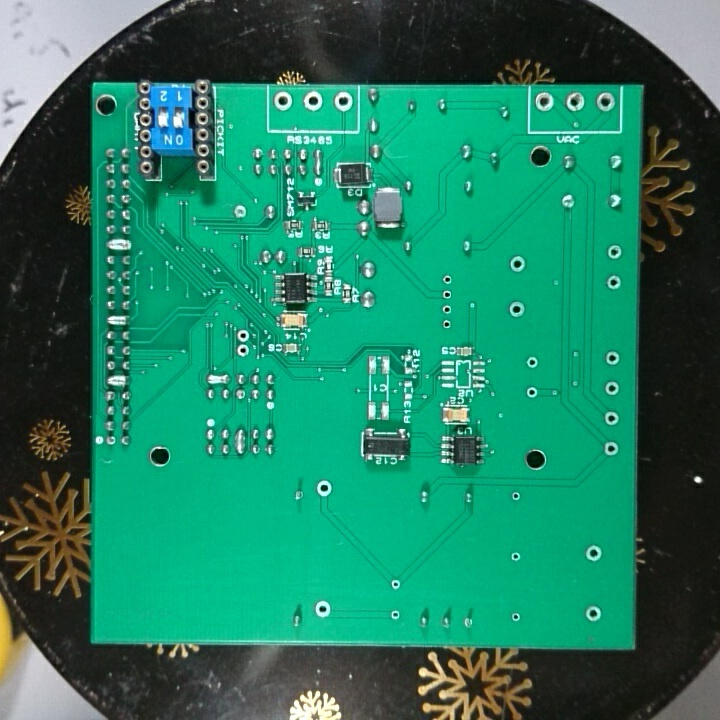F: (271, 89, 296, 115), (532, 91, 557, 115), (564, 90, 588, 114), (330, 89, 353, 114), (582, 541, 604, 567), (604, 239, 627, 263), (310, 597, 334, 620), (595, 89, 616, 115), (584, 600, 605, 626), (313, 477, 336, 500), (559, 191, 580, 215), (601, 438, 623, 460), (507, 253, 529, 274), (602, 347, 623, 369), (604, 271, 624, 294), (301, 90, 322, 111), (228, 201, 248, 223), (601, 407, 621, 429), (507, 299, 528, 317), (233, 327, 255, 343), (233, 342, 252, 360), (387, 573, 404, 593), (604, 378, 620, 399), (507, 549, 527, 565), (103, 432, 119, 452), (461, 612, 476, 633), (524, 354, 541, 372), (233, 385, 250, 403), (291, 486, 307, 504), (524, 383, 541, 399), (508, 489, 525, 505), (441, 299, 455, 318), (388, 605, 402, 624), (440, 288, 456, 303), (507, 610, 523, 625), (441, 270, 455, 286), (439, 316, 456, 329)
P: (103, 371, 133, 388), (310, 147, 326, 178), (105, 312, 131, 330), (204, 369, 231, 386), (106, 238, 133, 254), (233, 426, 246, 458)
